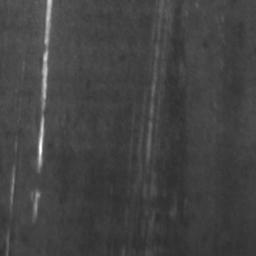Bright scratch: (37, 0, 52, 170), (29, 189, 42, 224)
